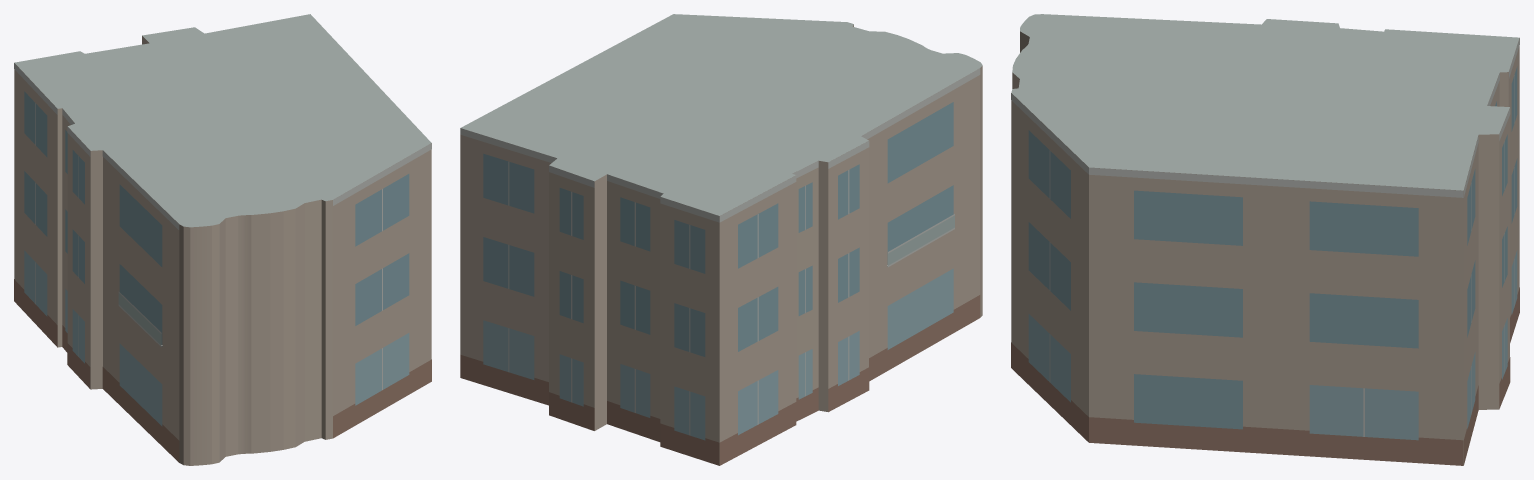
File: survey-upis-32680050.glb
3 renders of one model, left to right at view 1: azimuth 30°, elevation 25°; view 2: azimuth 150°, elevation 25°; view 3: azimuth 270°, elevation 25°, orthographic. The views are drawn at different scales.
Parts seen in each view (by area): view 1: survey-upis-32680050.tmp; view 2: survey-upis-32680050.tmp; view 3: survey-upis-32680050.tmp.
Boxes of the visible parts, x1,y1,x2,y2 form: survey-upis-32680050.tmp: (14,14,431,465); survey-upis-32680050.tmp: (460,14,982,465); survey-upis-32680050.tmp: (1011,14,1519,465).
Bounding box in the file's own units: 12.6 × 9.15 × 15.32.
